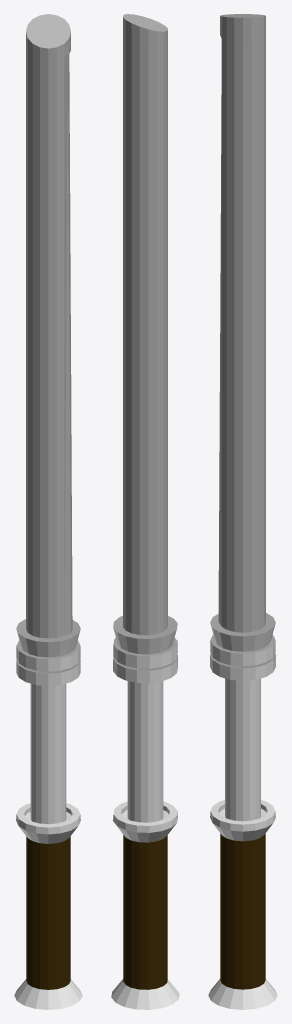
File: Magushift.fbx
3 views of the same model, side by side, from view 1: azimuth 90°, elevation 25°; view 2: azimuth 210°, elevation 25°; view 3: azimuth 270°, elevation 25° (orthographic).
Visible parts, largest first — view 1: Magushift; view 2: Magushift; view 3: Magushift.
Boxes of the visible parts, left/top/right/bottom form: Magushift: left=14, top=14, right=82, bottom=1009; Magushift: left=111, top=14, right=179, bottom=1009; Magushift: left=208, top=14, right=277, bottom=1009.
Size of the model in its own units: 0.1442 by 2.26 by 0.1442.
